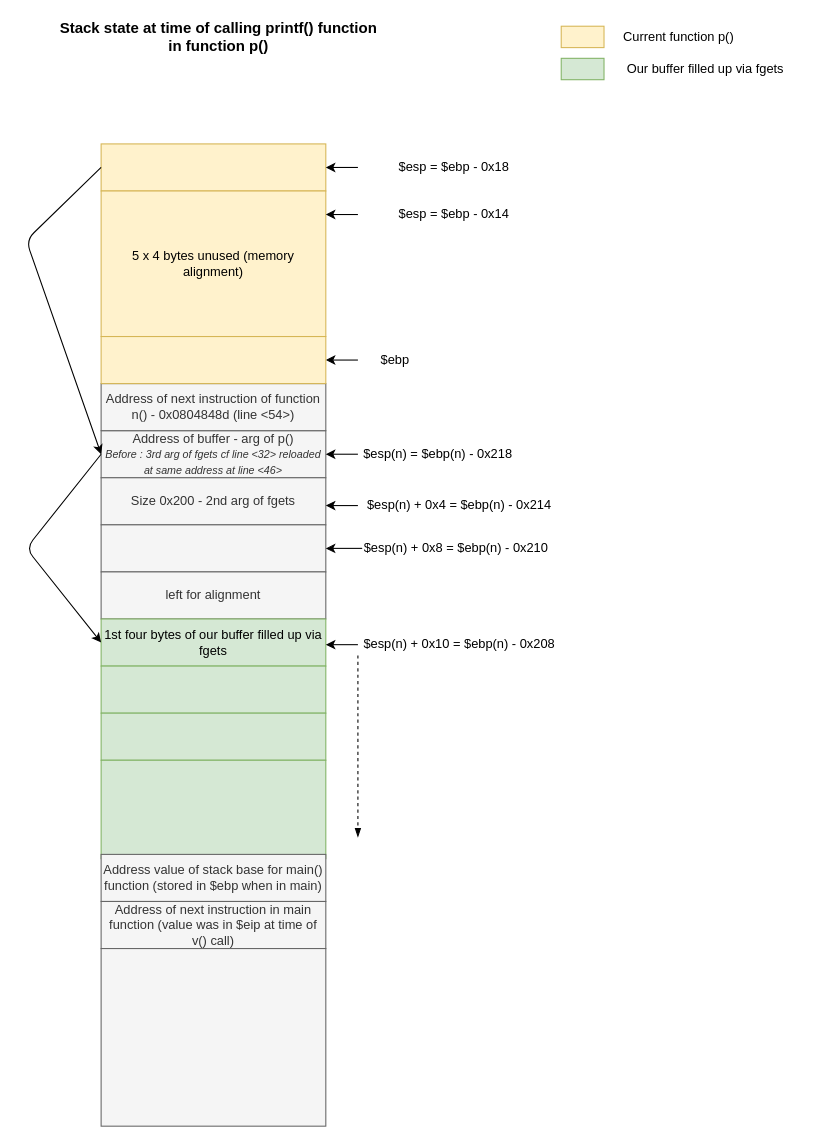
The diagram is 815 pixels wide and 1145 high, and some of its shapes have lost their labels. Here are the shapes that lost their labels. From the top down, the box of each, then its label:
(100, 143, 326, 191): Address of buffer - arg of printf pushed there line <+9>
(100, 335, 326, 384): Stack base address of n()
(100, 524, 326, 572): stdin - 1st arg of fgets
(100, 947, 326, 1126): main() stack frame
